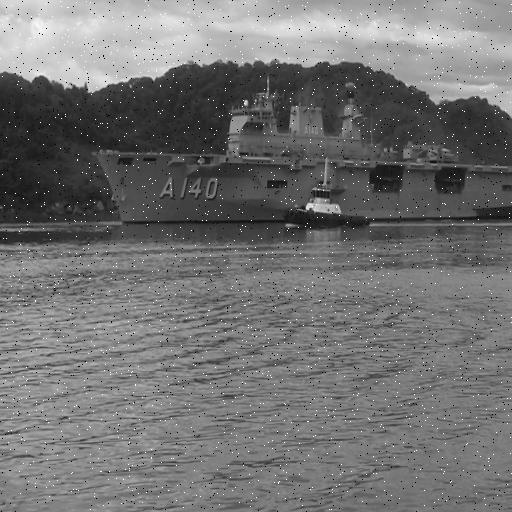Portanaves: (85, 67, 512, 235)
